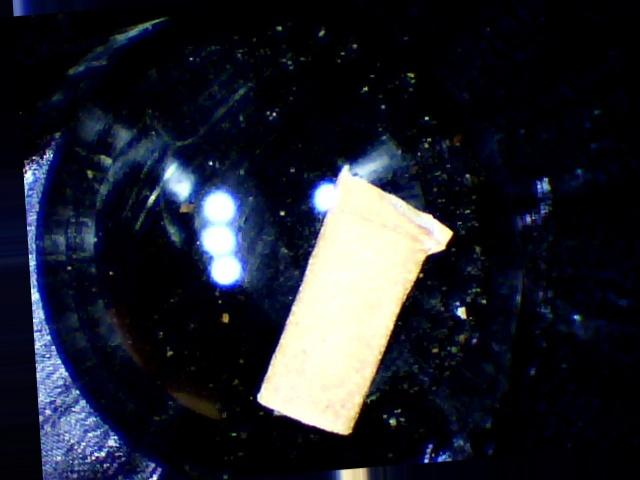megot: (222, 150, 479, 450)
